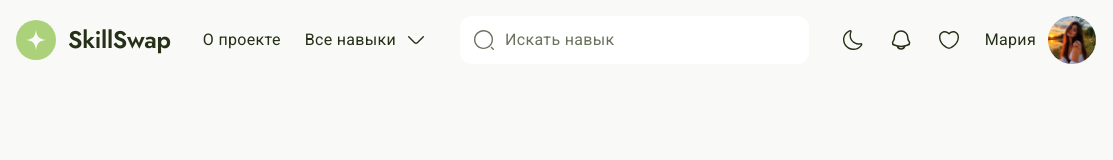
Test: Header › вошедший › колокольчик открывает слот notifications
What coordinates should you click on to do the following:
click the button named "Уведомления"
I would click on:
 (901, 40)
Its box is [889,28,913,52].
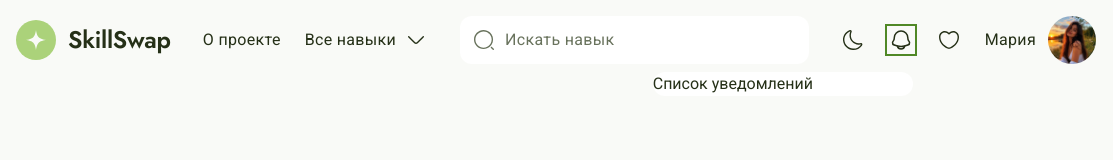
Expected: the text "Список уведомлений" is shown, [653,74,813,93]
